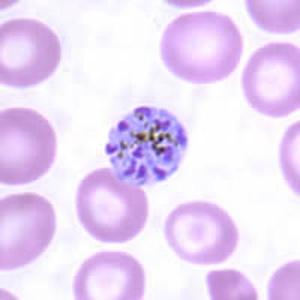Infected: (105, 105, 189, 185)
Uninfected: (161, 11, 242, 84), (75, 168, 147, 243), (165, 201, 238, 266), (0, 17, 63, 89), (0, 106, 57, 185), (241, 41, 300, 117), (0, 191, 55, 271), (74, 251, 145, 300)
